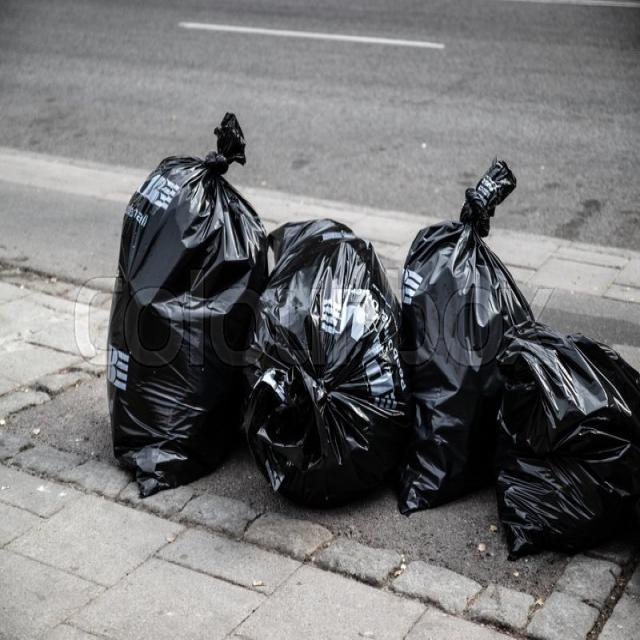plastic_bag: (118, 158, 257, 488), (404, 196, 521, 544), (262, 227, 403, 508)
